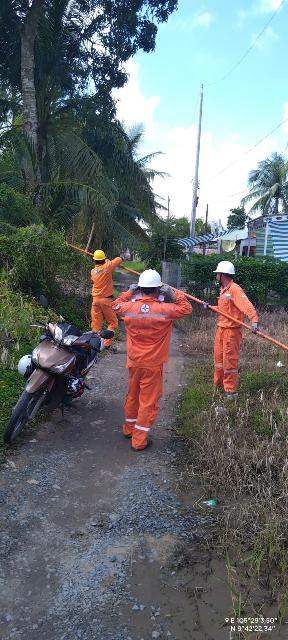gloves: (159, 286, 175, 297), (128, 281, 139, 294), (250, 322, 261, 335), (204, 301, 213, 313)
helmet: (139, 270, 163, 294), (215, 258, 235, 279), (93, 246, 107, 263)
